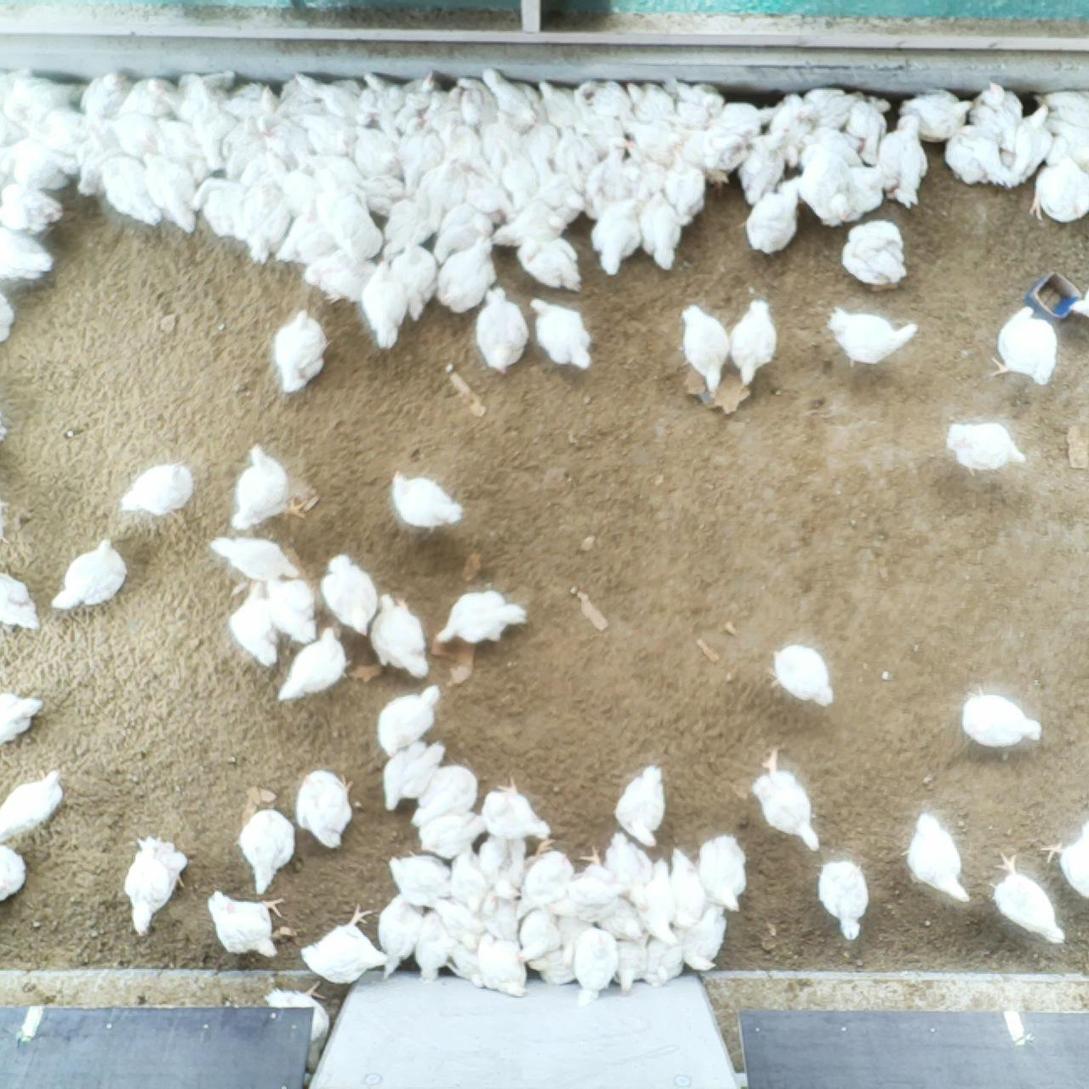chicken: (984, 847, 1071, 946), (750, 747, 821, 853), (296, 905, 388, 986), (121, 830, 189, 939), (229, 443, 310, 533), (316, 168, 388, 263), (901, 814, 974, 907), (960, 686, 1047, 760), (984, 301, 1058, 387), (273, 624, 352, 704), (206, 888, 288, 965), (263, 981, 333, 1069), (871, 111, 935, 207), (824, 304, 918, 368), (435, 584, 533, 644), (365, 591, 431, 680), (50, 538, 128, 612), (270, 307, 335, 395), (673, 122, 749, 197), (545, 845, 617, 924), (317, 552, 383, 638), (740, 170, 805, 257), (1029, 132, 1089, 226), (526, 294, 597, 373), (378, 737, 450, 814), (95, 149, 165, 227), (942, 418, 1031, 479), (472, 283, 531, 375), (837, 215, 907, 292), (612, 761, 671, 851), (359, 253, 411, 353), (295, 768, 356, 853), (388, 468, 469, 532), (1004, 100, 1059, 194), (236, 807, 295, 894), (435, 234, 500, 312), (0, 767, 71, 838), (377, 683, 443, 759), (943, 120, 1013, 191), (225, 581, 281, 669), (298, 246, 380, 306), (892, 86, 974, 146), (513, 838, 573, 920), (677, 303, 731, 393), (814, 859, 871, 944), (588, 195, 646, 277), (480, 64, 546, 136), (378, 887, 426, 985), (241, 174, 292, 266), (479, 778, 552, 842), (142, 149, 198, 232), (584, 131, 634, 223), (727, 299, 780, 385), (410, 761, 478, 828), (118, 458, 195, 517), (210, 534, 300, 584), (563, 89, 630, 156), (797, 150, 853, 228), (516, 230, 586, 292), (634, 188, 684, 274), (771, 643, 837, 708), (149, 117, 210, 187), (272, 211, 348, 266), (408, 904, 460, 984), (264, 570, 320, 644), (394, 114, 442, 200), (473, 823, 525, 902), (4, 72, 77, 128), (386, 848, 453, 909), (1041, 817, 1089, 901), (433, 201, 495, 266), (615, 106, 680, 168), (697, 834, 747, 914), (474, 927, 530, 998), (380, 188, 438, 256), (572, 76, 640, 134), (10, 138, 80, 194), (215, 111, 271, 181), (733, 131, 785, 206), (283, 73, 365, 120), (489, 202, 571, 249), (841, 94, 891, 170), (639, 858, 681, 948), (433, 115, 492, 179), (765, 93, 814, 170), (662, 849, 708, 931), (288, 108, 359, 161), (619, 138, 664, 221), (663, 71, 726, 130), (679, 901, 729, 974), (446, 844, 494, 919), (492, 136, 539, 212), (548, 122, 598, 193), (602, 834, 652, 905), (432, 894, 488, 957), (531, 155, 582, 224), (971, 81, 1019, 154), (395, 237, 436, 322), (173, 67, 234, 124), (788, 84, 865, 129), (191, 97, 239, 169), (665, 143, 707, 225), (76, 125, 120, 203), (602, 929, 654, 994), (592, 888, 653, 943), (190, 173, 241, 238), (253, 115, 311, 171), (409, 155, 467, 211), (510, 906, 566, 964), (700, 100, 781, 140), (346, 120, 401, 178), (0, 182, 65, 231), (397, 67, 444, 134), (841, 161, 890, 225), (0, 225, 55, 282), (290, 146, 364, 188), (572, 925, 611, 1004), (458, 172, 515, 226), (355, 70, 402, 135), (480, 121, 527, 186), (522, 940, 582, 989), (421, 811, 486, 856), (640, 923, 687, 985), (25, 108, 88, 154), (278, 157, 323, 221), (478, 880, 524, 942), (0, 572, 49, 630), (109, 108, 162, 160), (519, 100, 559, 168), (1026, 86, 1089, 129), (536, 77, 583, 134), (115, 75, 179, 116), (452, 74, 498, 131), (552, 905, 593, 968), (626, 77, 680, 124), (216, 79, 281, 118), (1045, 115, 1089, 172), (78, 68, 133, 113), (348, 174, 410, 213), (258, 83, 321, 121), (0, 690, 47, 740), (442, 937, 485, 990), (794, 142, 864, 171), (422, 84, 462, 132), (0, 134, 34, 186), (72, 109, 117, 147), (801, 127, 866, 152), (0, 842, 27, 901), (0, 65, 37, 100), (0, 105, 30, 148), (0, 291, 22, 344), (1066, 286, 1089, 323)
